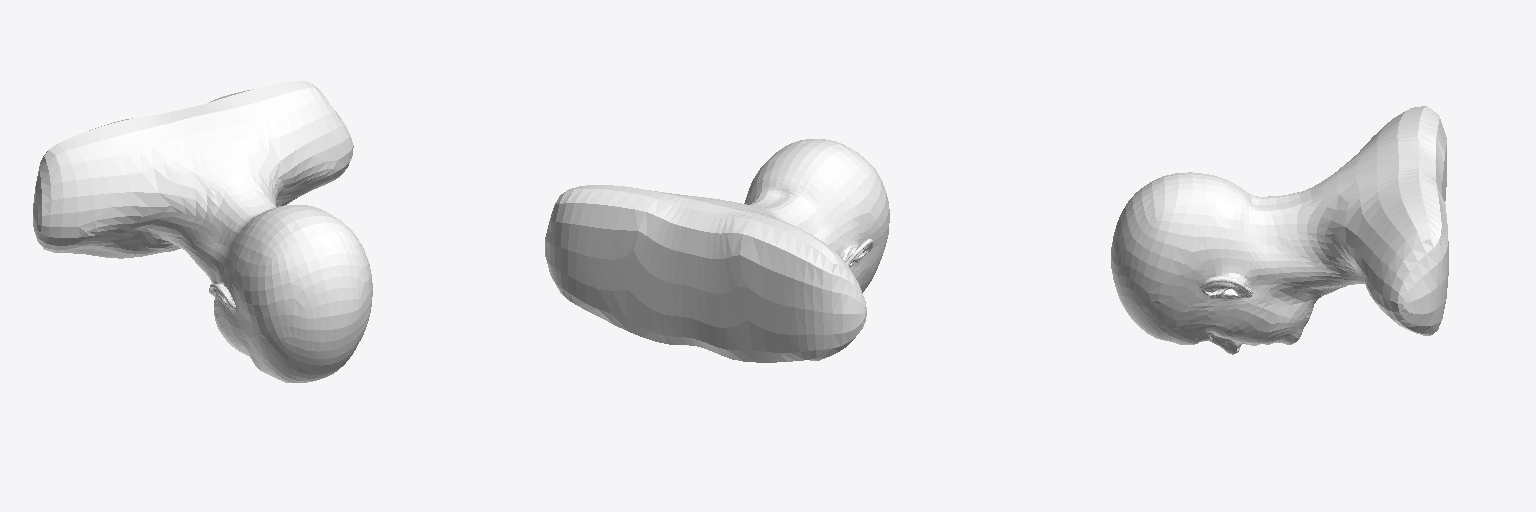
Rendered from head.obj.
The picture shows the model from 3 angles: view 1: azimuth 30°, elevation 25°; view 2: azimuth 150°, elevation 25°; view 3: azimuth 270°, elevation 25°; orthographic projection.
Visible parts, largest first — view 1: Group2, Group19, Group4, Group5; view 2: Group4, Group2, Group5, Group19; view 3: Group2, Group4, Group19, Group14, Group5.
Part boxes in pixels (x1,y1,x2,y2): Group2: (44, 81, 372, 374); Group19: (224, 308, 345, 382); Group4: (33, 89, 353, 248); Group5: (209, 275, 240, 317); Group4: (545, 189, 866, 362); Group2: (564, 139, 889, 360); Group5: (836, 233, 873, 270); Group19: (852, 245, 882, 292); Group2: (1111, 106, 1436, 335); Group4: (1390, 106, 1448, 333); Group19: (1136, 293, 1256, 354); Group14: (1224, 290, 1313, 344); Group5: (1194, 266, 1252, 302).
Bounding box in the file's own units: 71.24 × 43.15 × 66.18.